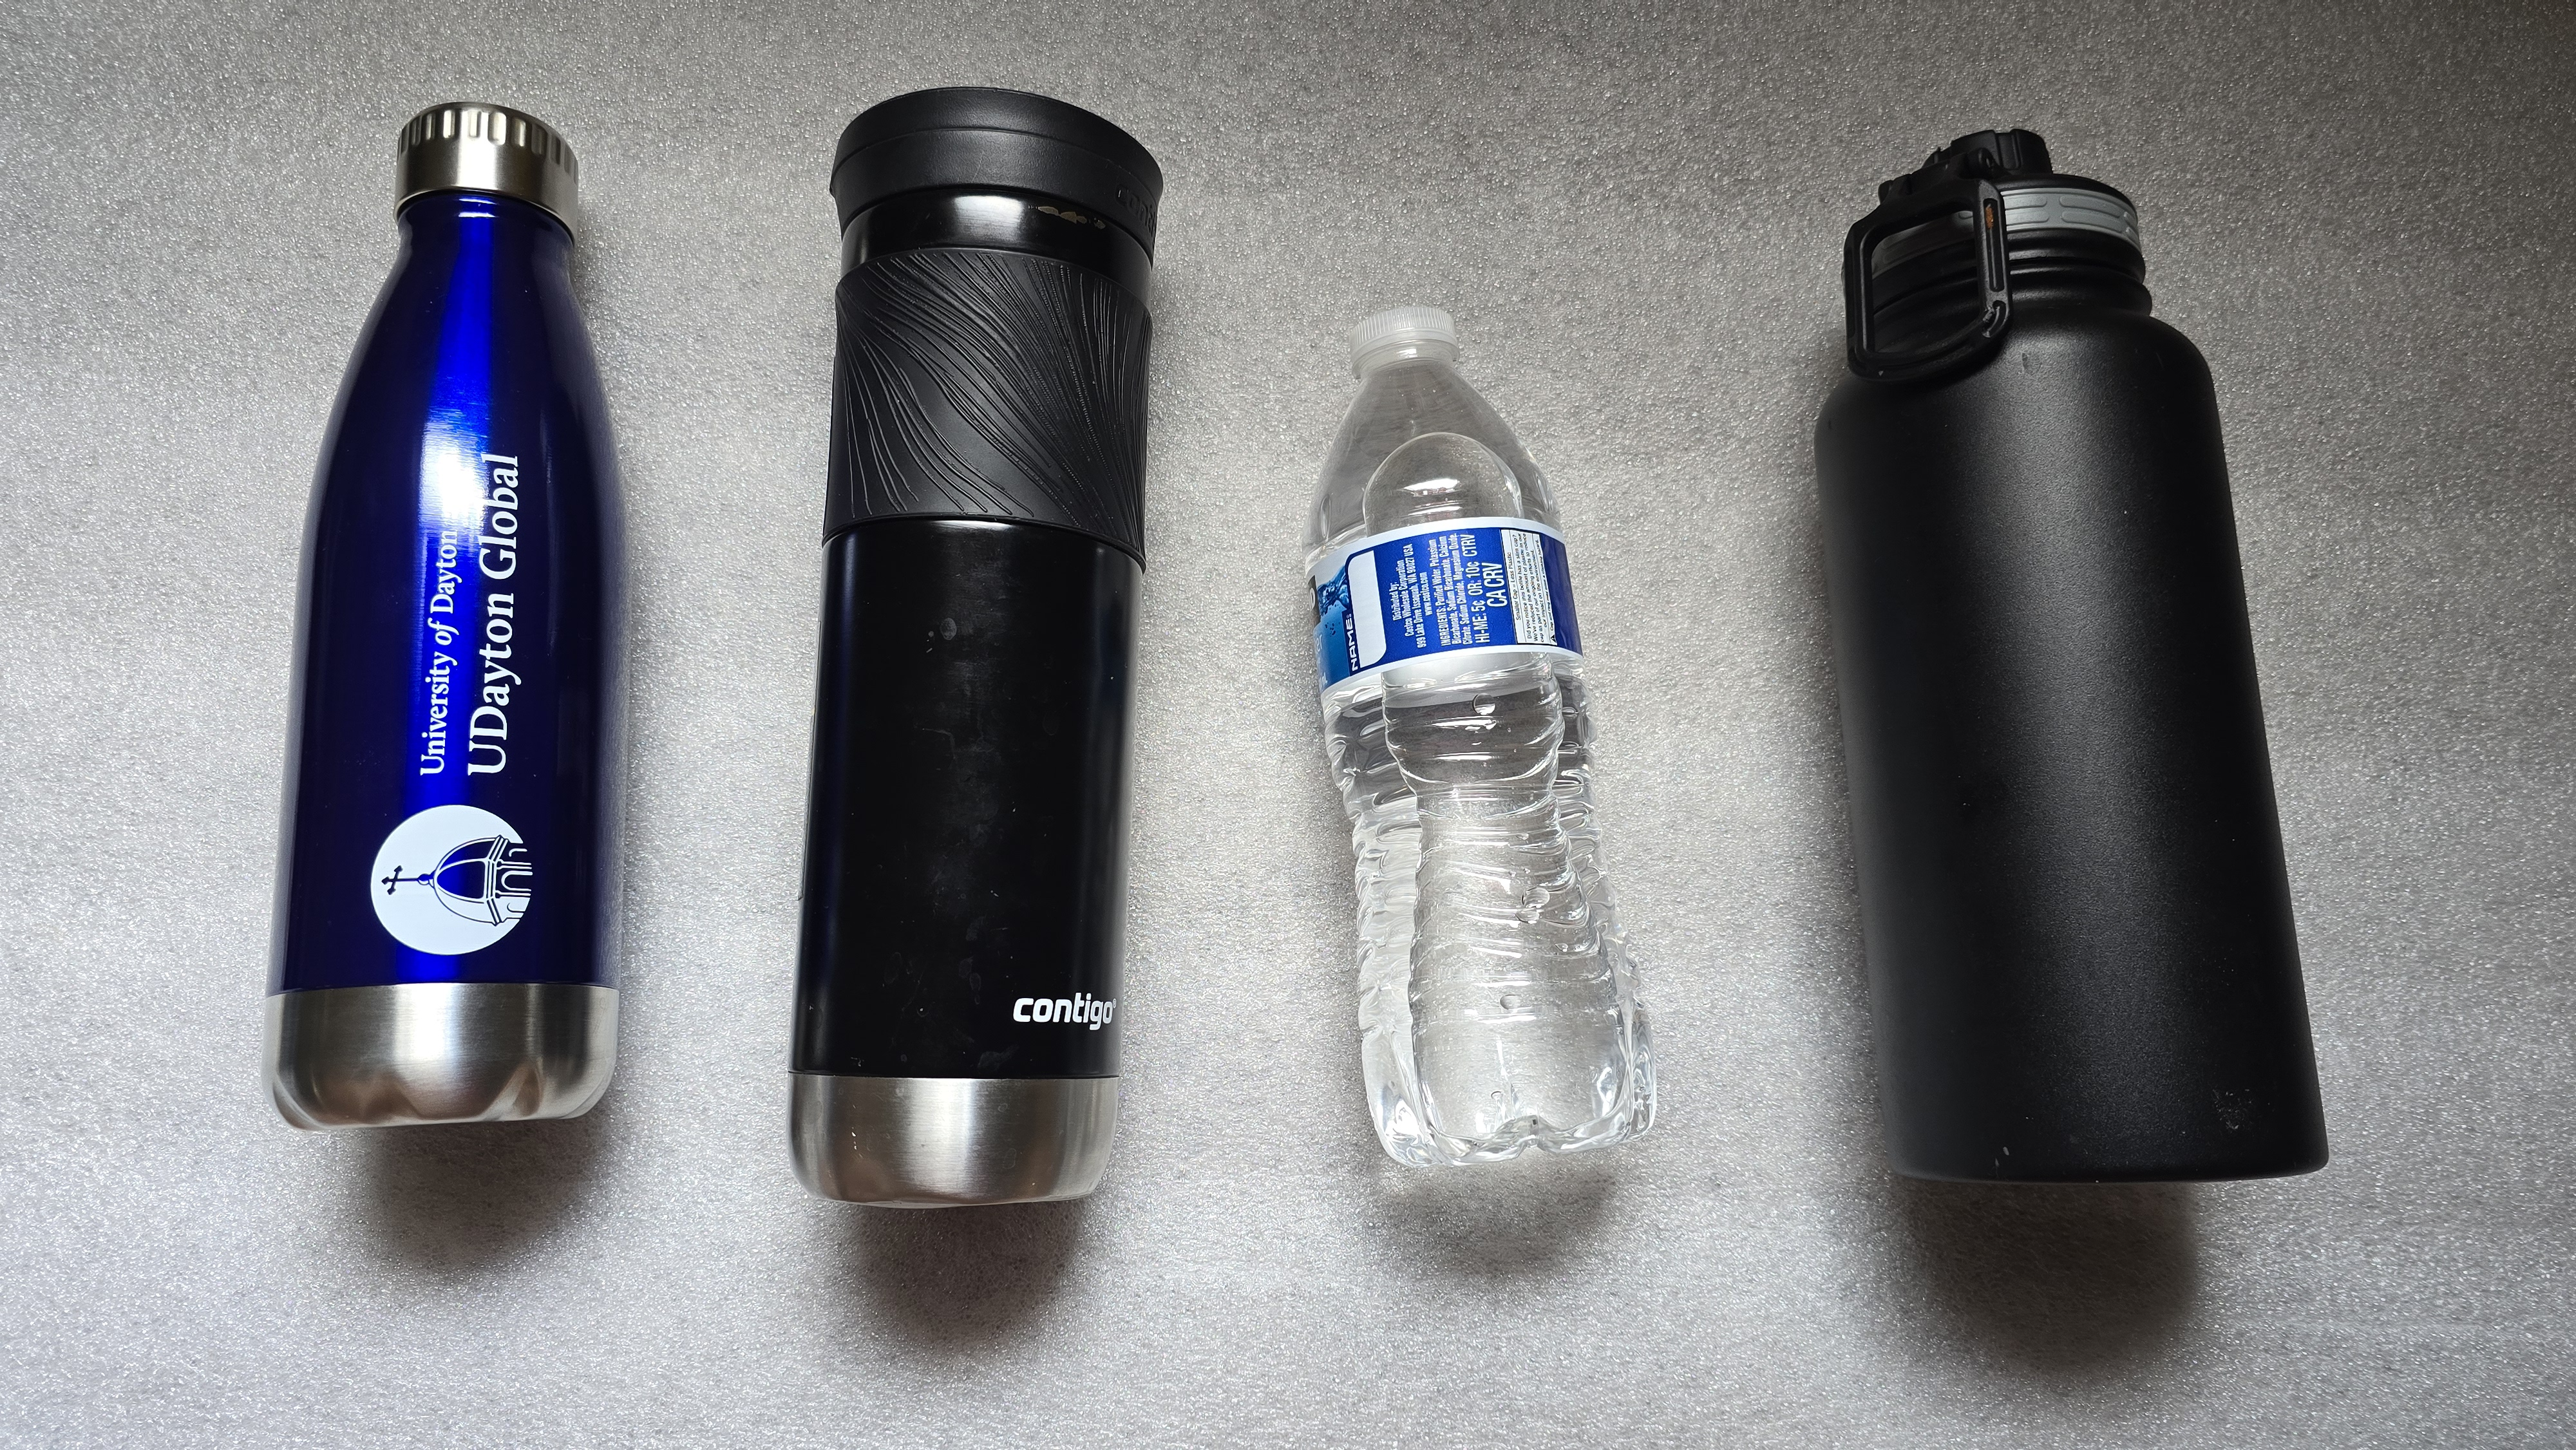bottle: (1789, 106, 2380, 1222), (260, 90, 644, 1153), (786, 71, 1131, 1222), (1295, 299, 1679, 1195)
